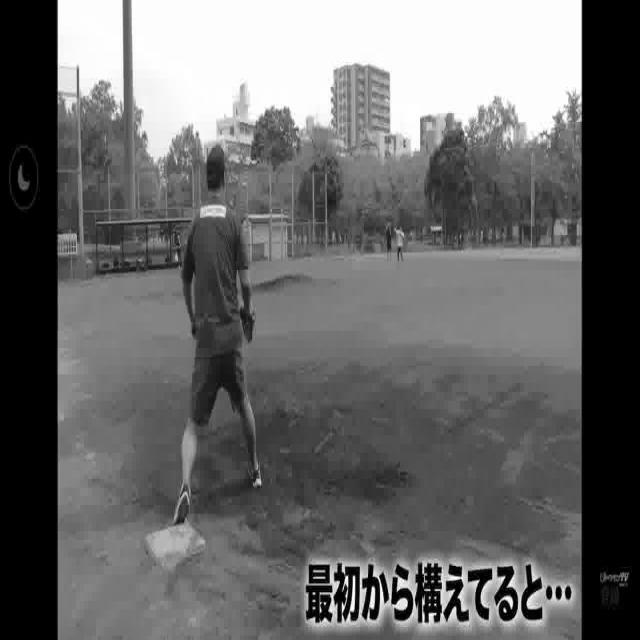base: (142, 528, 208, 571)
baseball_glove: (238, 298, 254, 340)
shoe: (174, 475, 191, 530), (244, 447, 262, 494)
